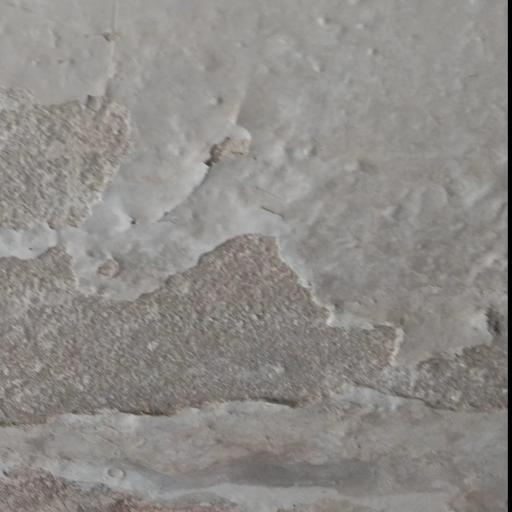peeling: (0, 77, 512, 443)
